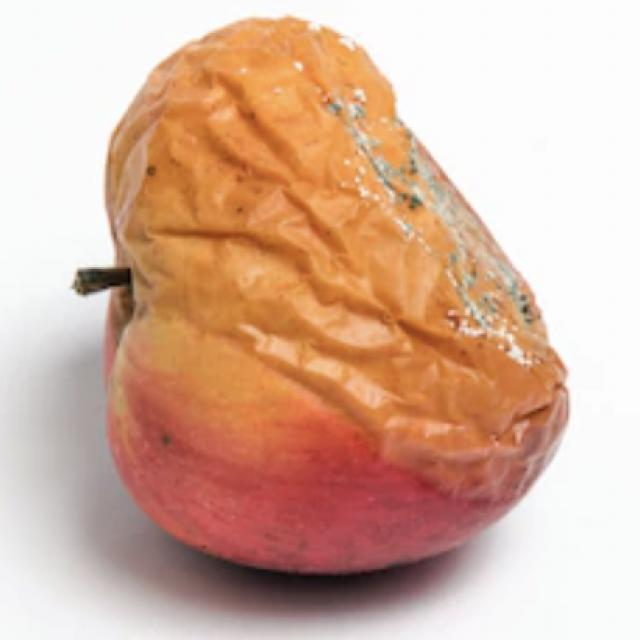rotten_apple: (97, 14, 575, 583)
